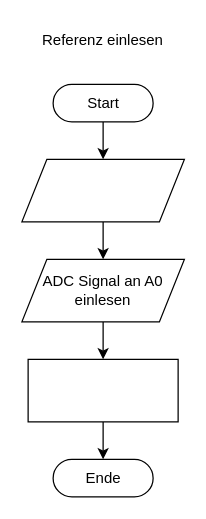
This 206x519 diagram has some shape labels left out. The shapes that lost their labels are listed below. From the top down, each one's centre as x and y in pixels, then its label:
At point 102,190: "ADC Signal an A1 einlesen".
At point 102,390: "Differenz berechnen und zurückgeben".
